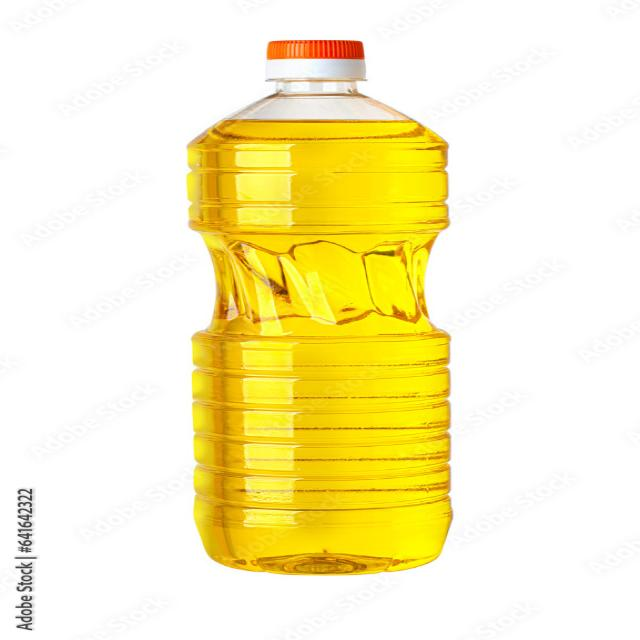bottle: (178, 36, 458, 576)
